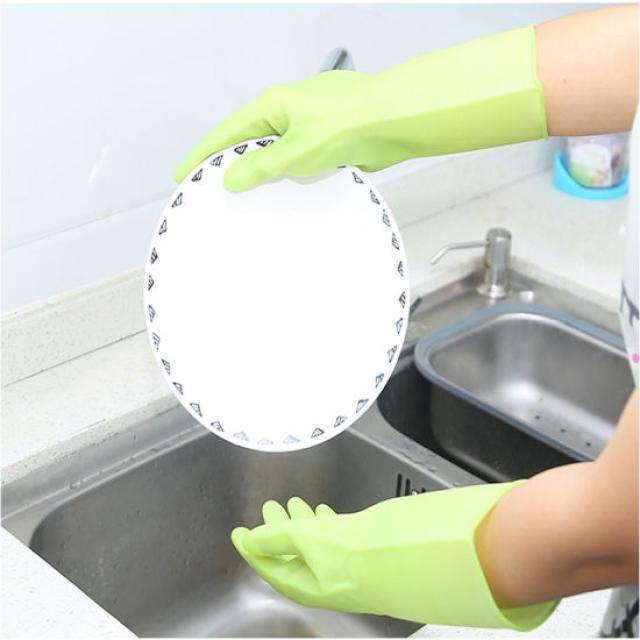gloves: (180, 23, 548, 191), (235, 480, 564, 632)
